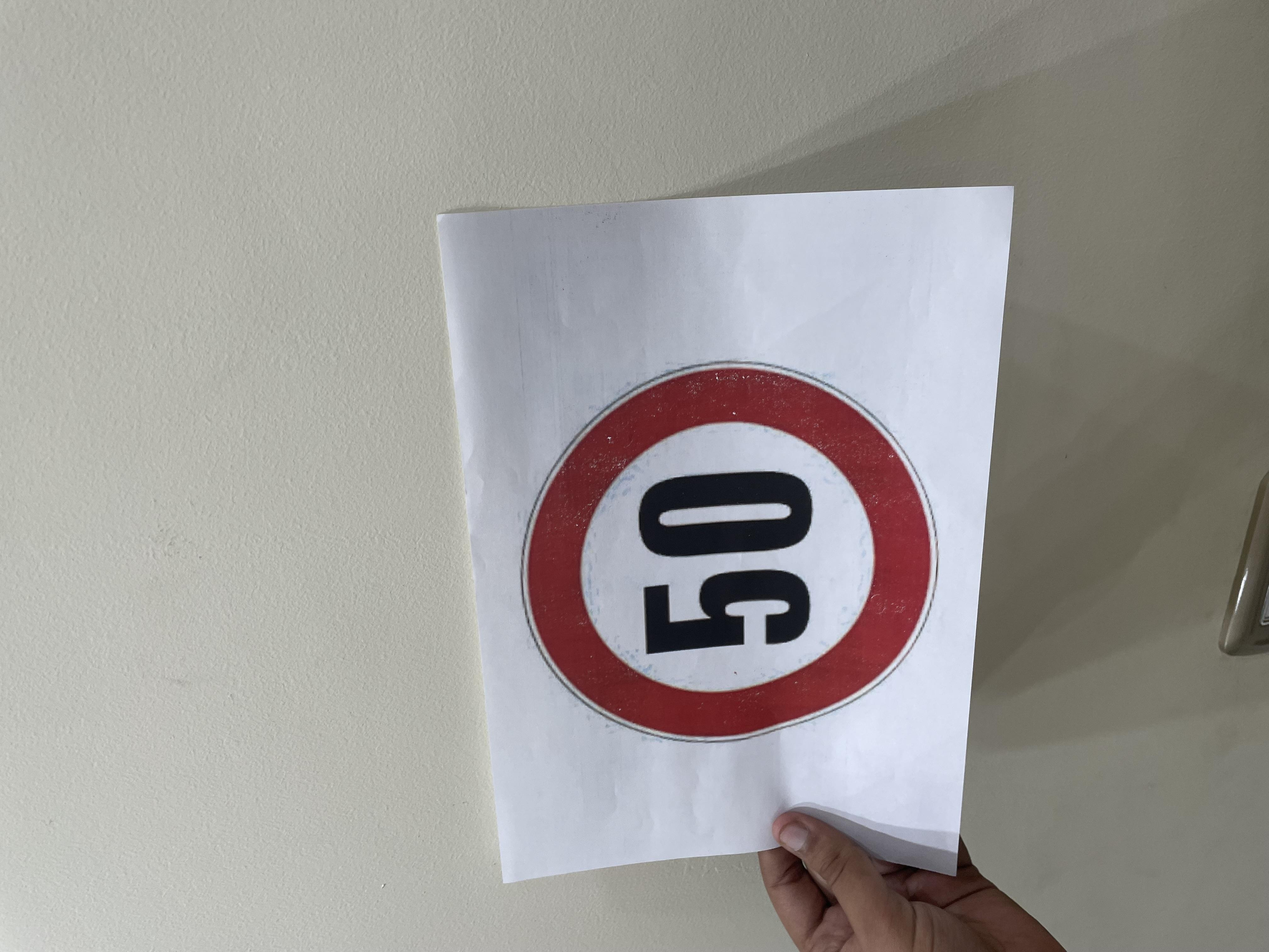50-Speed: (261, 381, 814, 696)
